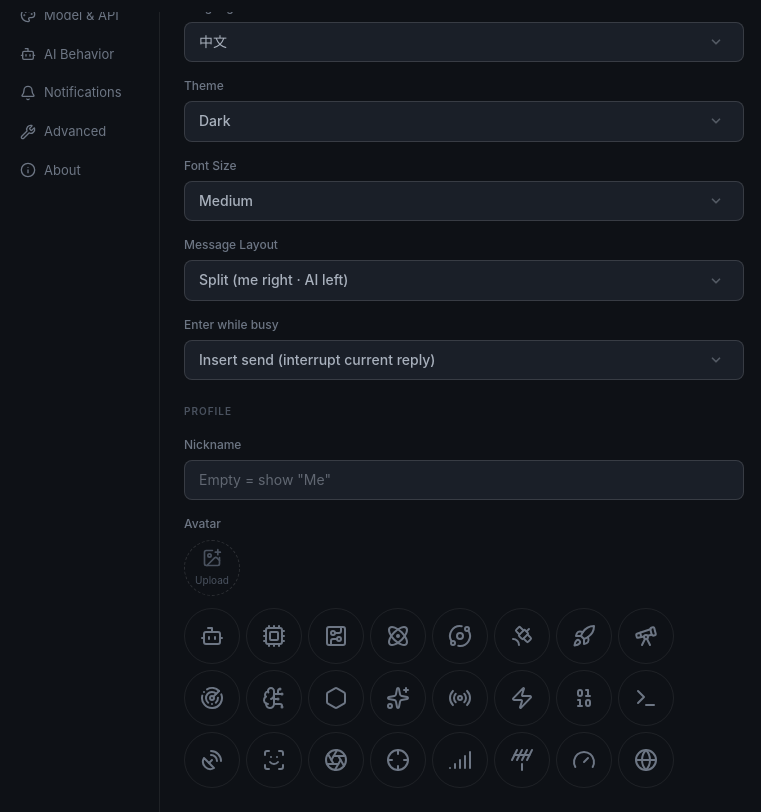
it: SettingsPanel › subagent default value follows smallModel switch (low slot 工匠)
(page scrolled)
Click the button with class "f-settings-nav-item" showing "AI Behavior" at (80, 54), box x1=8 y1=36 x2=151 y2=72
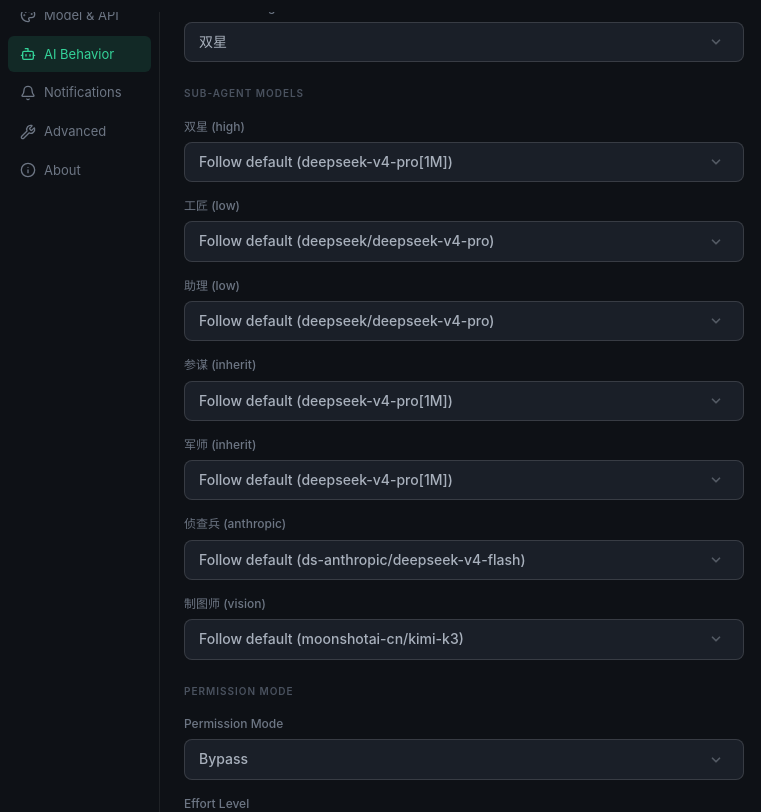
Expected: the element with class "settings-field" shows "deepseek/deepseek-v4-pro", x1=199 y1=232 x2=494 y2=249
